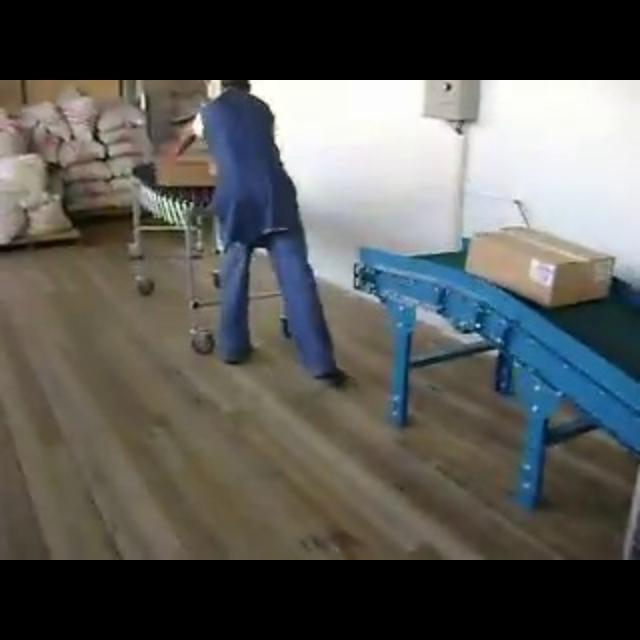Box: (460, 222, 616, 310), (152, 148, 226, 190)
